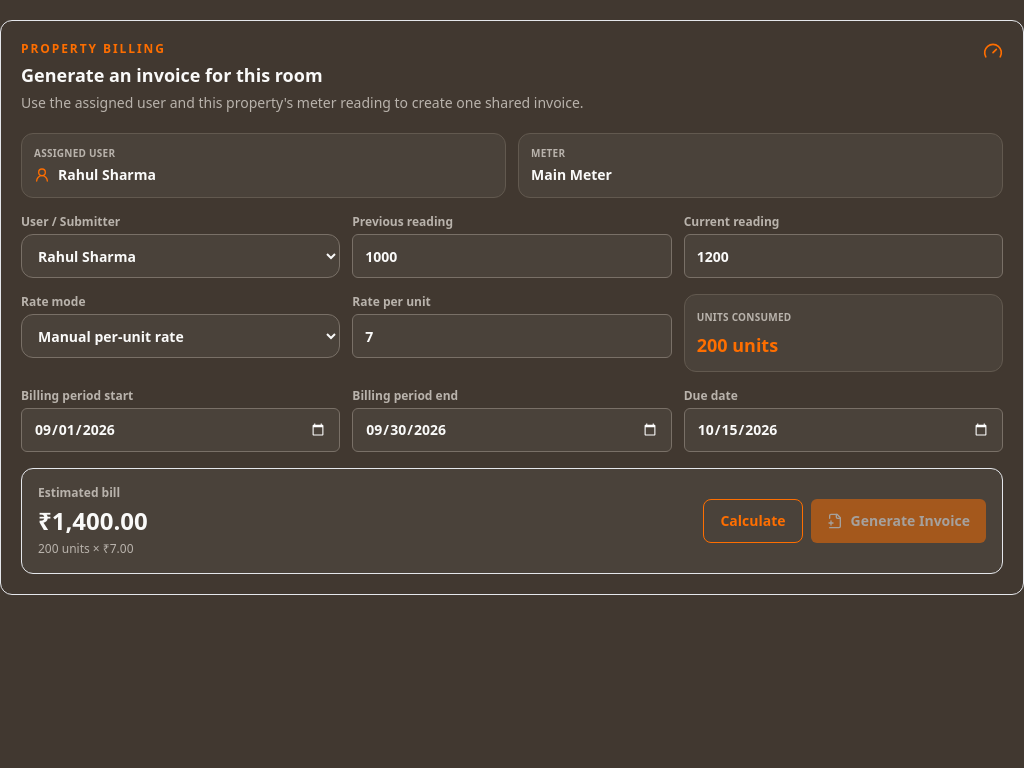
it: PropertyBilling › shows accurate notification status: scheduled
The width and height of the screenshot is (1024, 768).
expect the text "Rahul Sharma" is shown: met, box [34,165,156,184]
expect the text "200 units" is shown: met, box [697,333,778,357]
Click the button "Calculate" at (753, 521), box [704,499,803,543]
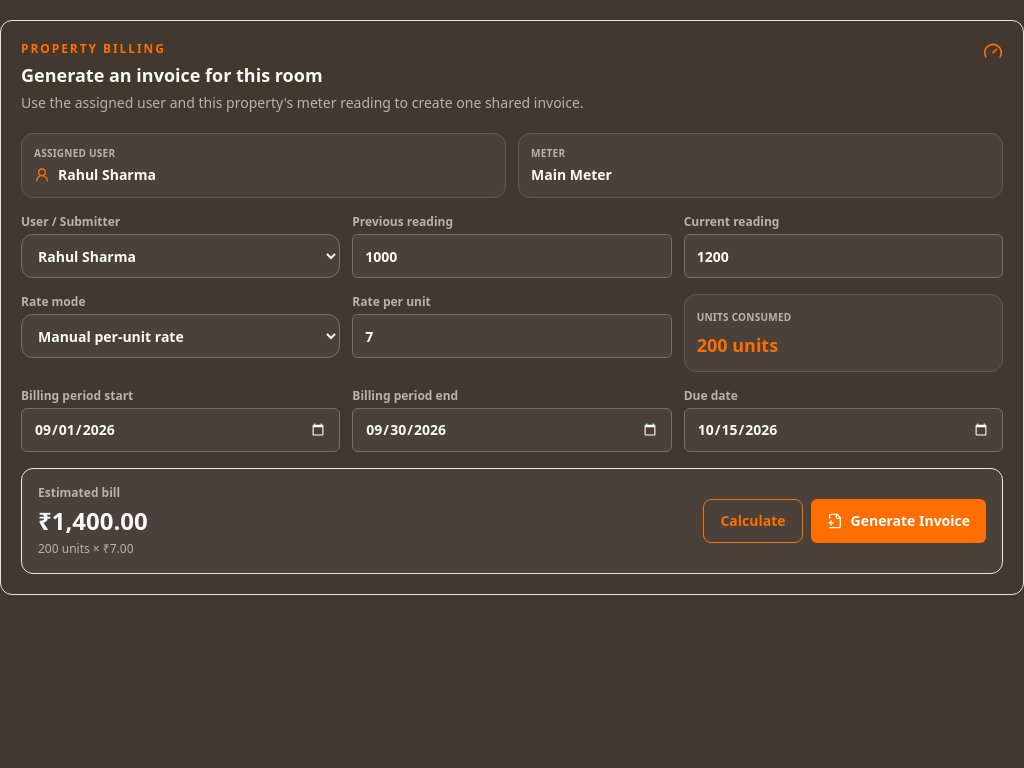
Click the button "Generate Invoice" at (898, 521), box [811,499,986,543]
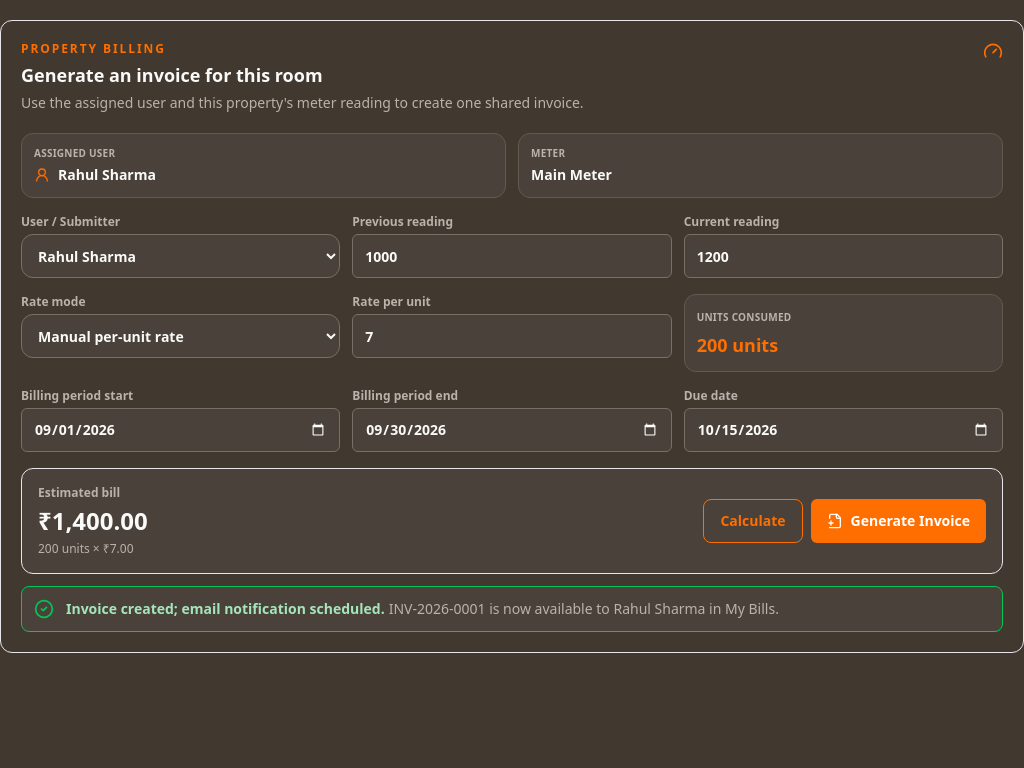
expect the text "Invoice created; email notification scheduled." is shown: met, box [66,599,385,618]
expect the text "INV-2026-0001 is now available to Rahul Sharma in My Bills." is shown: met, box [389,599,779,618]
